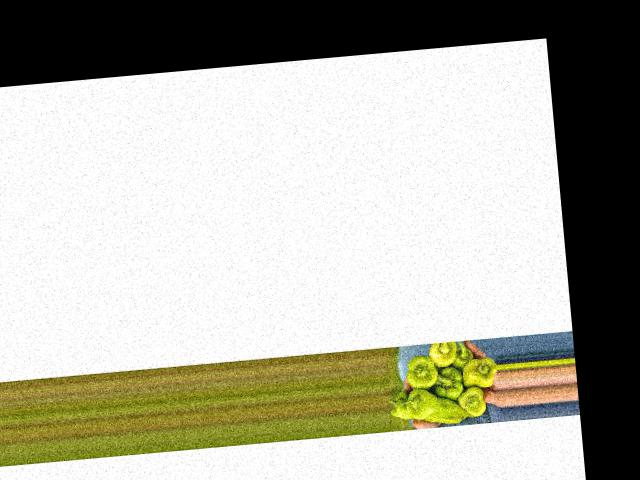bell_pepper: (459, 353, 497, 387)
